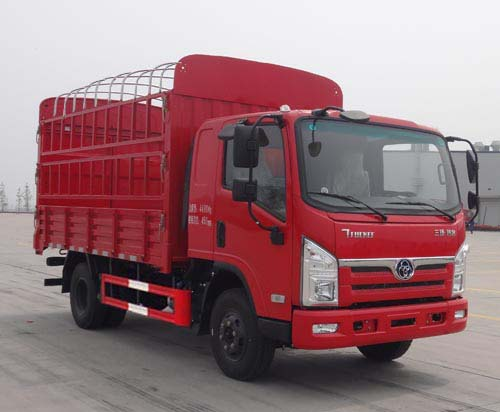smalltruck: (31, 58, 477, 377)
